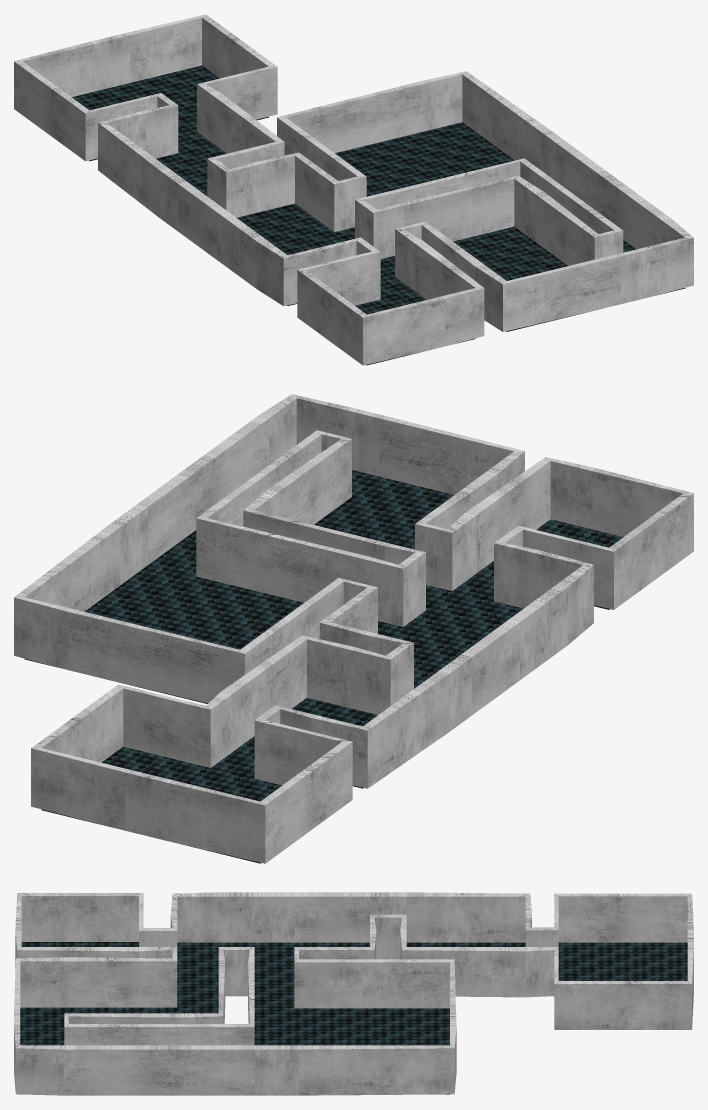
The model's file is mapunityhorror.fbx.
The picture shows the model from 3 angles, top to bottom: view 1: azimuth 30°, elevation 25°; view 2: azimuth 150°, elevation 25°; view 3: azimuth 270°, elevation 25°; orthographic projection. The views are drawn at different scales.
Visible parts, largest first — view 1: Part 1, Floor; view 2: Part 1, Floor; view 3: Part 1, Floor.
Boxes of the visible parts, x1,y1,x2,y2 form: Part 1: (14, 14, 693, 365); Floor: (72, 65, 685, 365); Part 1: (14, 394, 693, 863); Floor: (24, 470, 623, 863); Part 1: (14, 892, 693, 1095); Floor: (20, 942, 687, 1094).
Size of the model in its own units: 1098 by 160 by 2007.
Materials: 2 (2 with a texture image).
